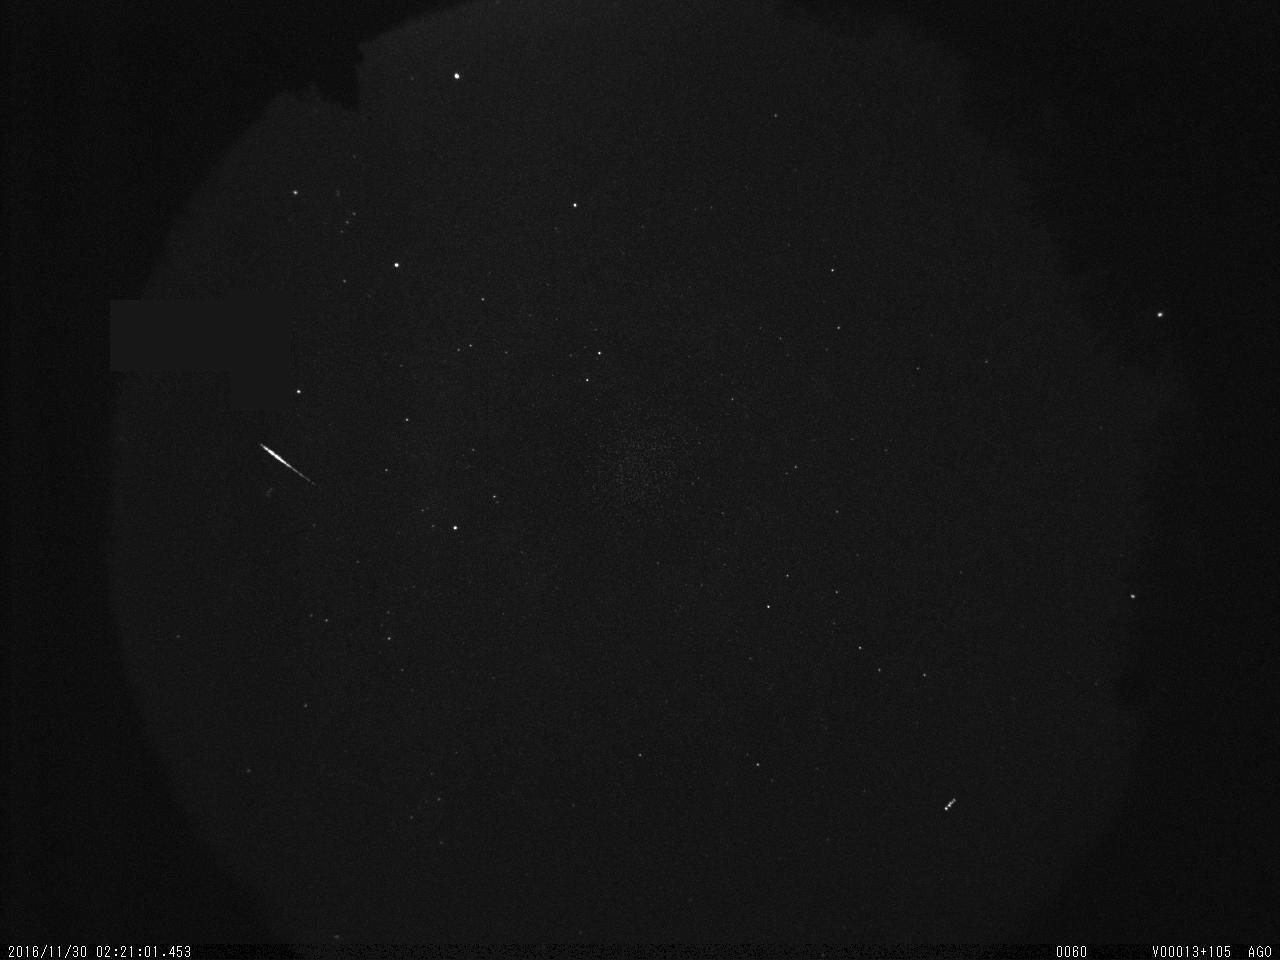Meteor: (257, 441, 316, 488)
